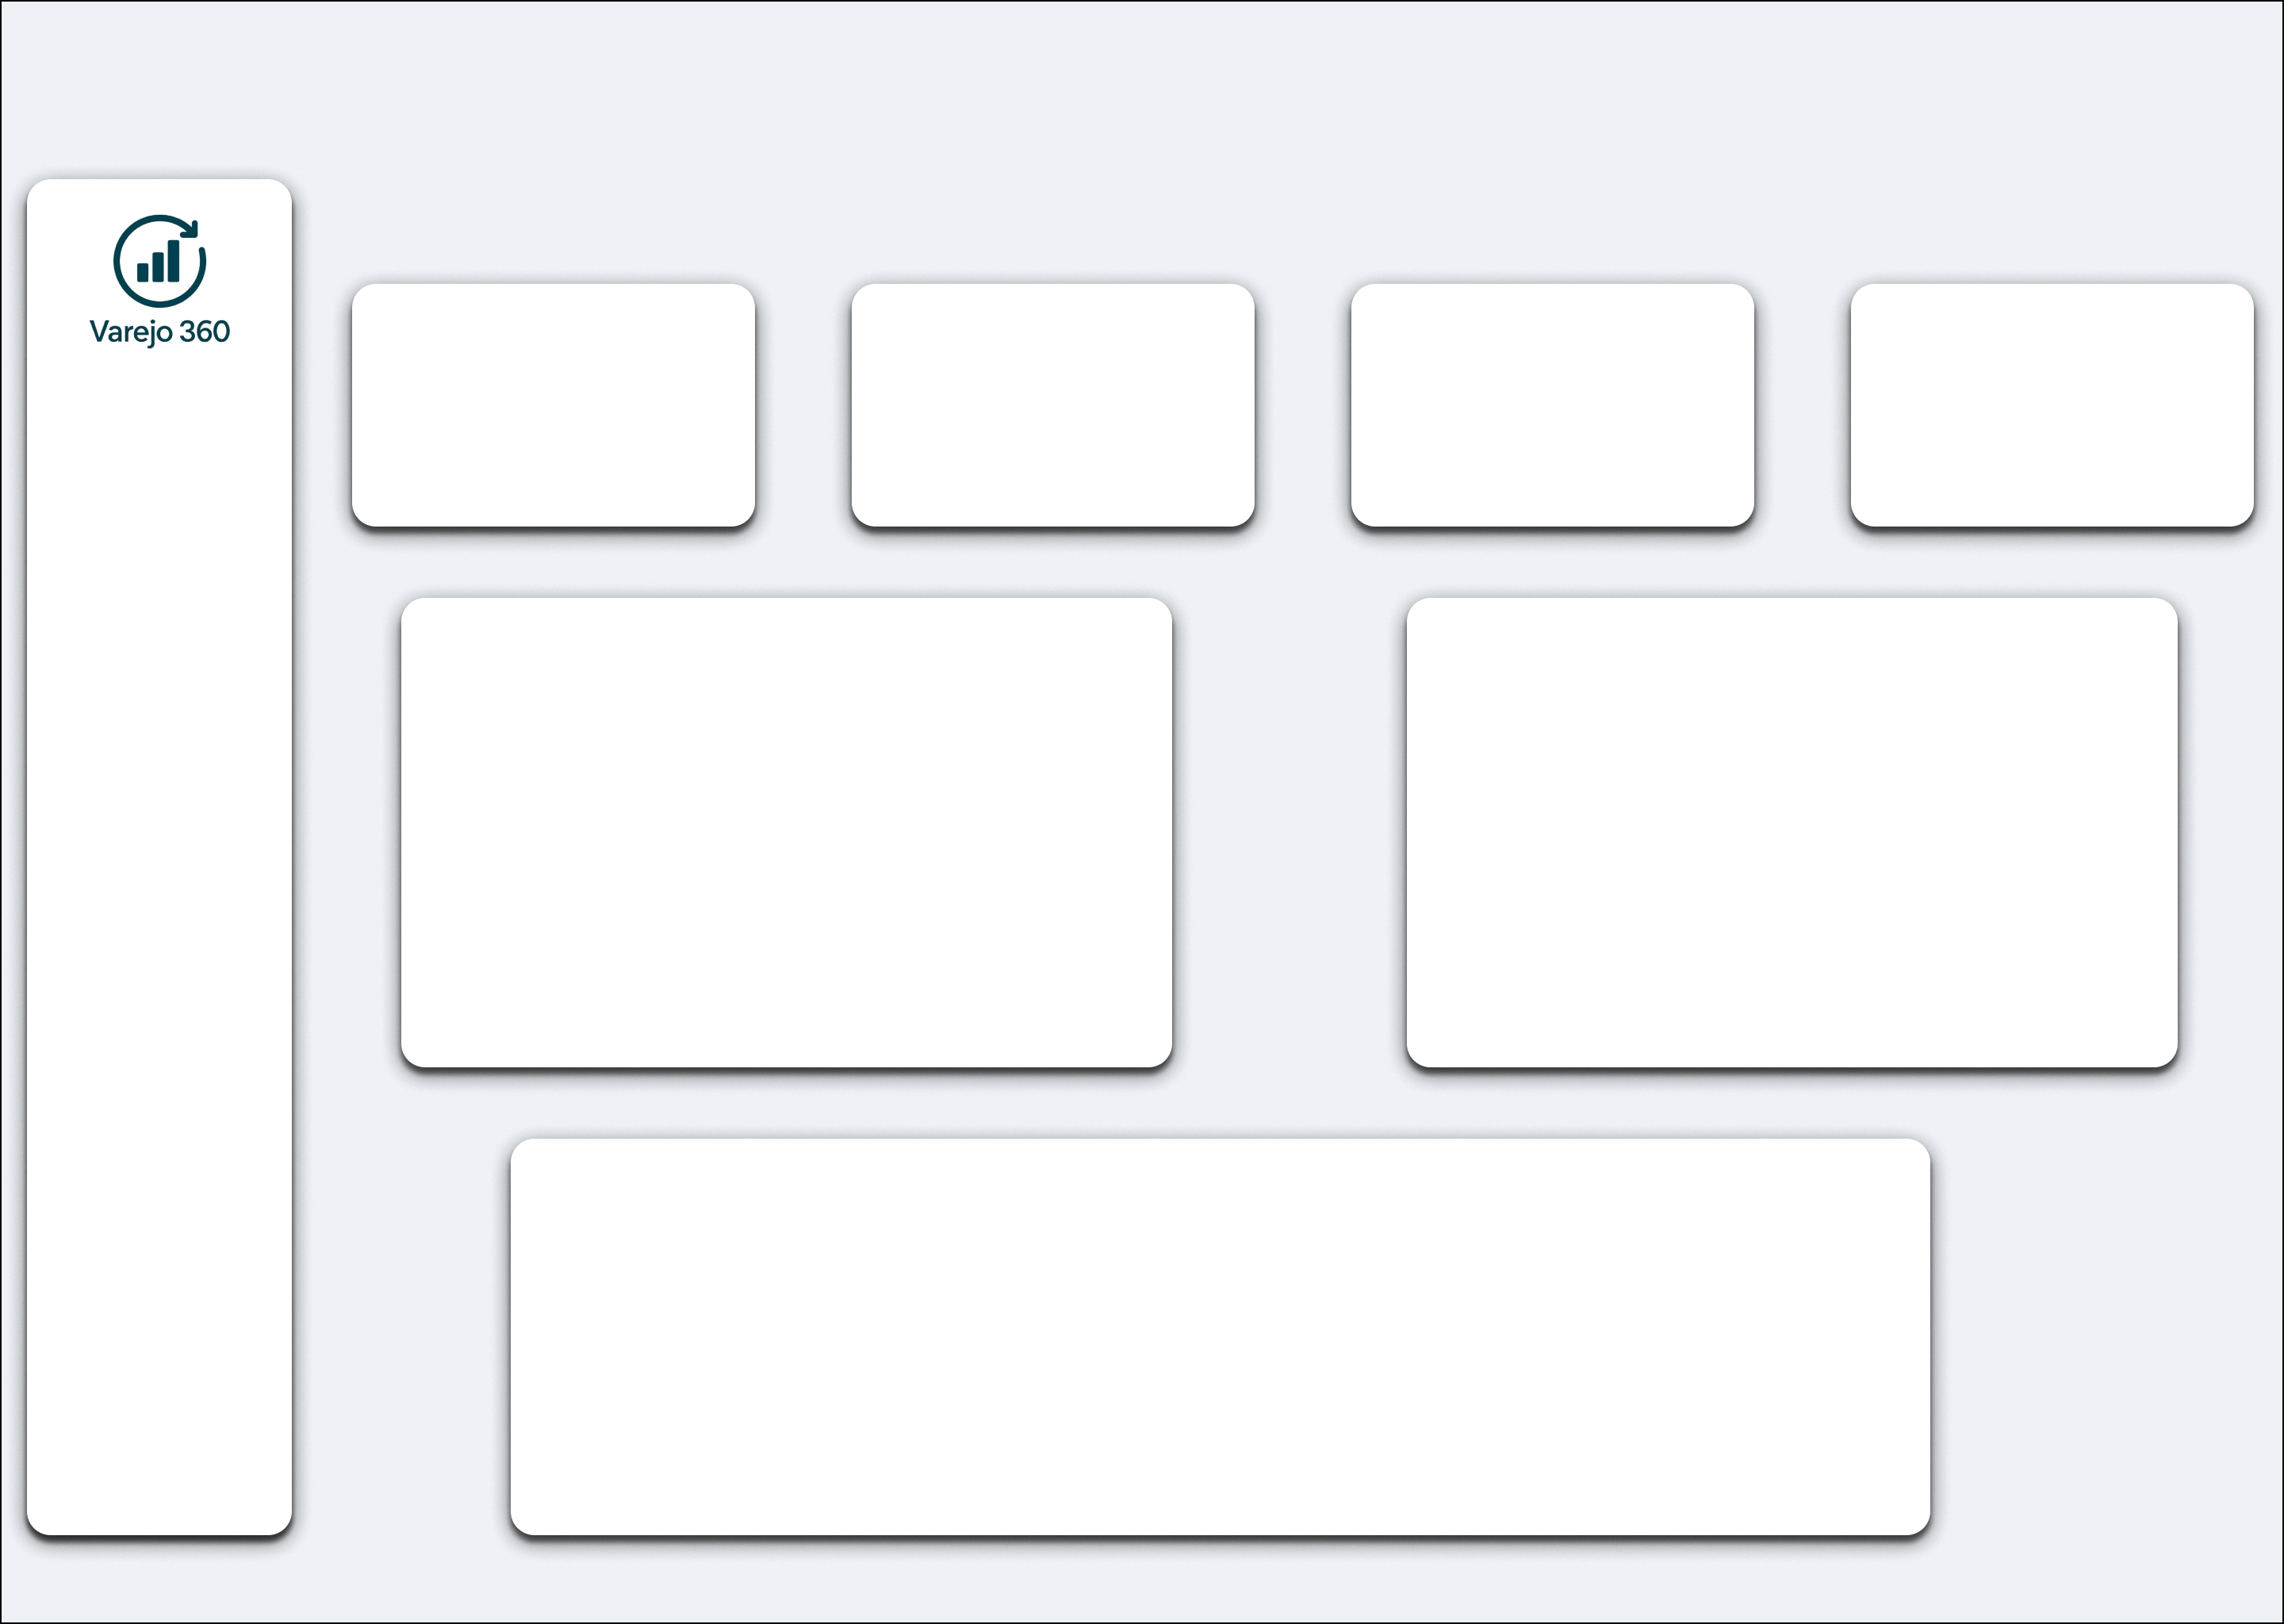

What the dashboard file says about the page in this screenshot:
{"tool":"powerbi","page":{"name":"Visão Geral","canvas":[1280,720],"ordinal":0},"visuals":[{"type":"textbox","box":[333.6,24.3,642.9,45.7],"z":0},{"type":"cardVisual","fields":{"Data":["public tb_analise_varejo360.Total Ocorrências"]},"box":[205.2,132.3,215,95.3],"z":1000},{"type":"cardVisual","fields":{"Data":["public tb_analise_varejo360.Custo Total (R$)"]},"box":[1044.6,132.3,212,99.2],"z":2000},{"type":"cardVisual","fields":{"Data":["public tb_analise_varejo360.Ocorrências Negativas"]},"box":[486.3,132.3,205.2,95.3],"z":3000},{"type":"cardVisual","fields":{"Data":["public tb_analise_varejo360.Alertas de Ruptura"]},"box":[769.4,132.3,209.1,95.3],"z":4000},{"type":"clusteredColumnChart","title":"Ruptura Virtual concentra a maior parte das ocorrências negativas","fields":{"Category":["public tb_analise_varejo360.categoria_ia"],"Y":["public tb_analise_varejo360.Ocorrências Negativas"]},"box":[228.6,269.4,427,206.2],"z":5000},{"type":"barChart","title":"Filial Centro lidera ocorrências negativas","fields":{"Category":["public tb_analise_varejo360.loja_id"],"Y":["public tb_analise_varejo360.Ocorrências Negativas"]},"box":[794.7,269.4,426,199.4],"z":6000},{"type":"lineChart","title":"Evolução das Avaliações no período","fields":{"Y":["public tb_analise_varejo360.Total Ocorrências"],"Category":["public tb_analise_varejo360.data_ocorrencia.Variation.Hierarquia de datas.Ano","public tb_analise_varejo360.data_ocorrencia.Variation.Hierarquia de datas.Trimestre","public tb_analise_varejo360.data_ocorrencia.Variation.Hierarquia de datas.Mês"]},"box":[288.9,511.6,788.8,164.4],"z":7000},{"type":"slicer","fields":{"Values":["public tb_analise_varejo360.loja_id"]},"box":[24.3,181.9,135.2,73.9],"z":8000},{"type":"slicer","fields":{"Values":["public tb_analise_varejo360.sentimento_ia"]},"box":[24.3,269.4,135.2,68.1],"z":9000},{"type":"slicer","fields":{"Values":["public tb_analise_varejo360.data_ocorrencia.Variation.Hierarquia de datas.Mês"]},"box":[24.3,359.9,135.2,65.2],"z":10000},{"type":"pageNavigator","box":[17.5,439.6,142,174.1],"z":11000}]}

Visuals, with their boxes on the page's 1280x720 design canvas (x1, y1, x2, y2). These are canvas units, not pixel positions in the 2284x1624 screenshot, which may show the page scaled, cropped or inside an application window:
textbox: <bbox>334, 24, 976, 70</bbox>
cardVisual - public tb_analise_varejo360.Total Ocorrências: <bbox>205, 132, 420, 228</bbox>
cardVisual - public tb_analise_varejo360.Custo Total (R$): <bbox>1045, 132, 1257, 232</bbox>
cardVisual - public tb_analise_varejo360.Ocorrências Negativas: <bbox>486, 132, 692, 228</bbox>
cardVisual - public tb_analise_varejo360.Alertas de Ruptura: <bbox>769, 132, 978, 228</bbox>
"Ruptura Virtual concentra a maior parte das ocorrências negativas" clusteredColumnChart: <bbox>229, 269, 656, 476</bbox>
"Filial Centro lidera ocorrências negativas" barChart: <bbox>795, 269, 1221, 469</bbox>
"Evolução das Avaliações no período" lineChart: <bbox>289, 512, 1078, 676</bbox>
slicer - public tb_analise_varejo360.loja_id: <bbox>24, 182, 160, 256</bbox>
slicer - public tb_analise_varejo360.sentimento_ia: <bbox>24, 269, 160, 338</bbox>
slicer - public tb_analise_varejo360.data_ocorrencia.Variation.Hierarquia de datas.Mês: <bbox>24, 360, 160, 425</bbox>
pageNavigator: <bbox>18, 440, 160, 614</bbox>
